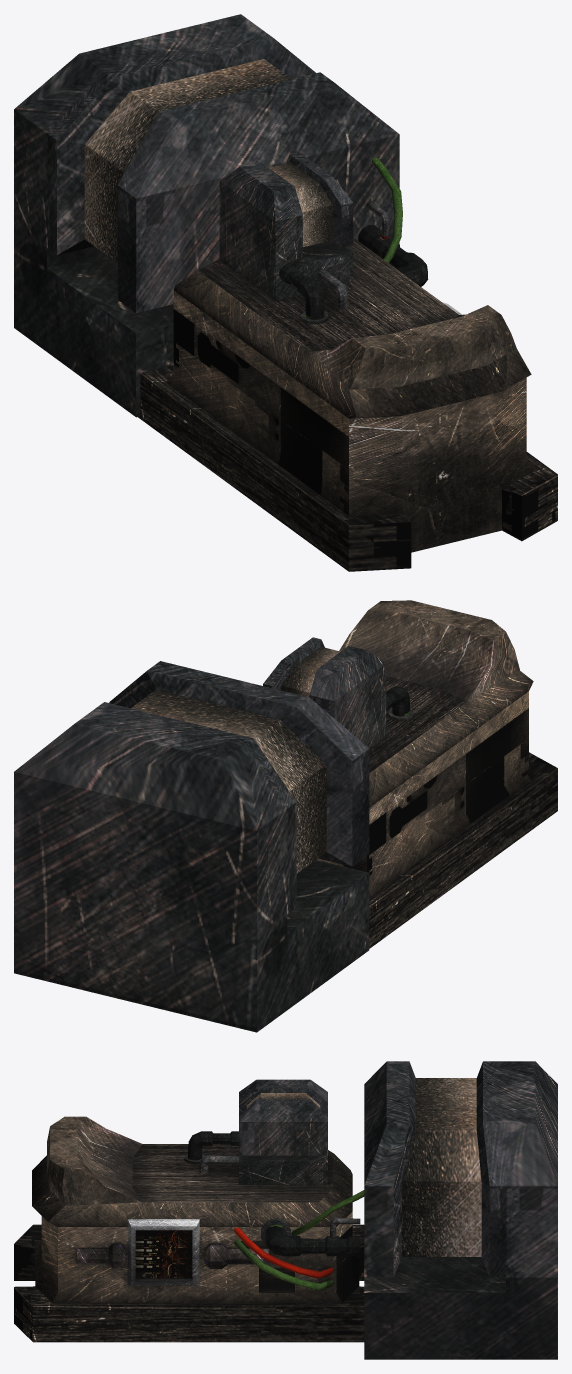
File: Generator.fbx
The picture shows the model from 3 angles, top to bottom: view 1: azimuth 30°, elevation 25°; view 2: azimuth 150°, elevation 25°; view 3: azimuth 270°, elevation 25°; orthographic projection. The views are drawn at different scales.
Visible parts, largest first — view 1: polySurface407; view 2: polySurface407; view 3: polySurface407.
Boxes of the visible parts, box(x1,y1,x2,y2) form: polySurface407: box(14, 14, 557, 571); polySurface407: box(14, 600, 557, 1032); polySurface407: box(14, 1061, 557, 1359).
Size of the model in its own units: 19.45 by 19.39 by 43.82.
